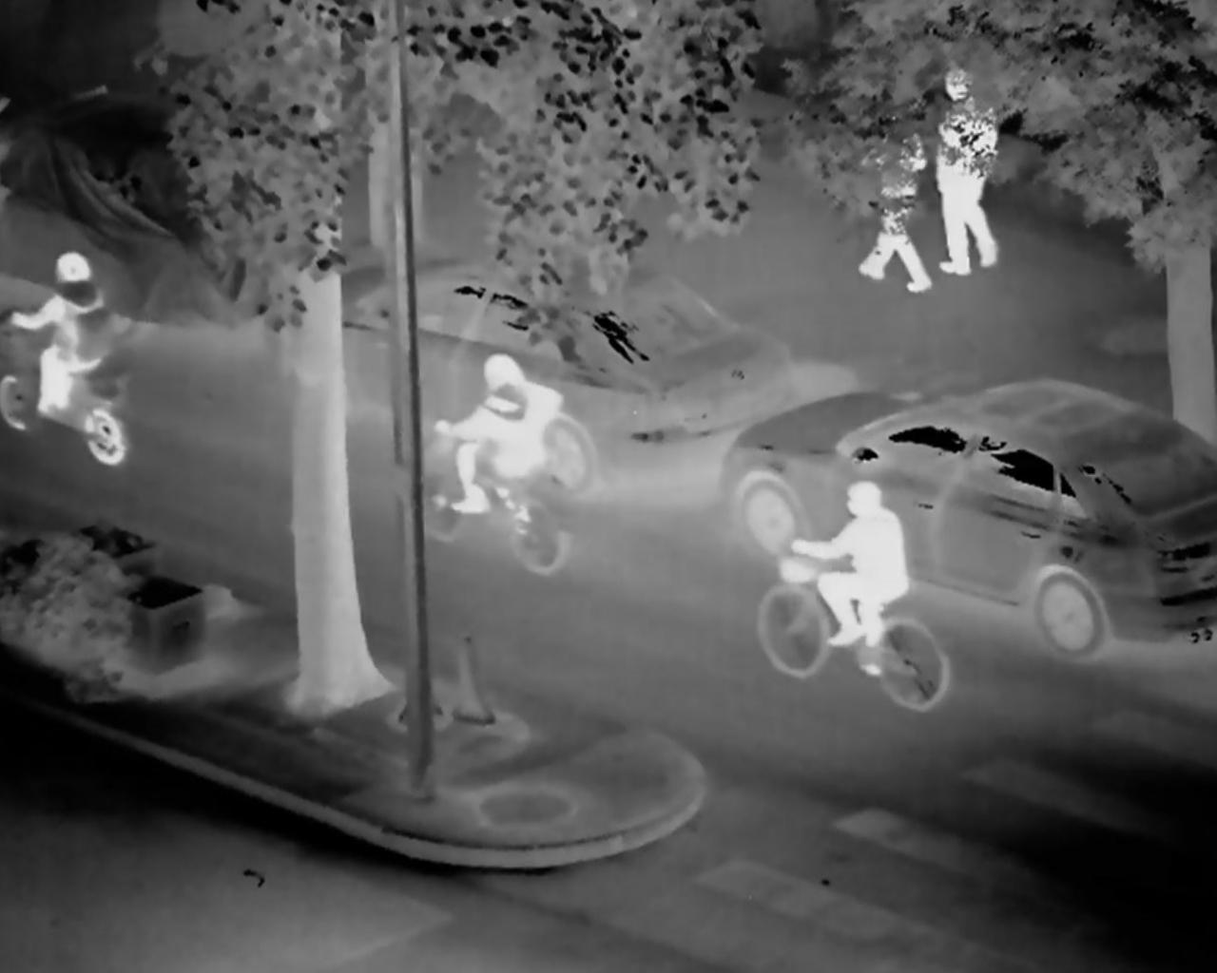person: (432, 350, 570, 565), (786, 486, 918, 683), (10, 246, 130, 462), (928, 64, 1008, 282), (853, 116, 943, 301)
